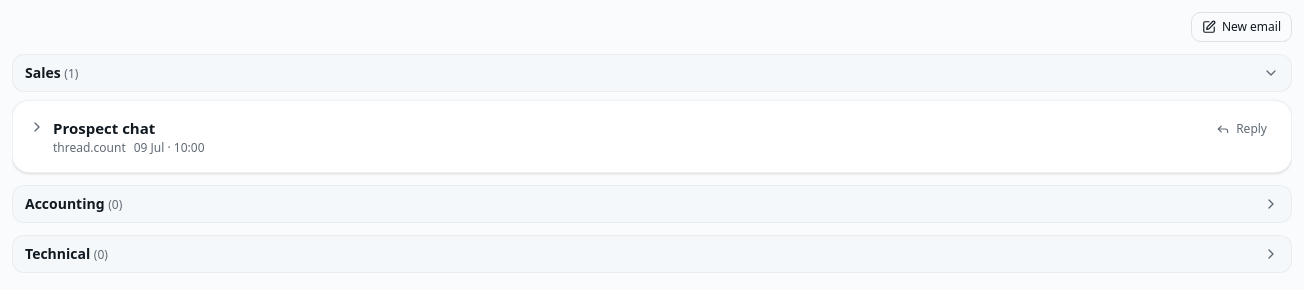
EmailThreadList › clicking a header collapses and re-expands its section
What coordinates should you click on to do the following:
click the button "Sales (1)"
I would click on:
 (43, 72)
Its box is top-left (12, 54), bottom-right (1292, 92).
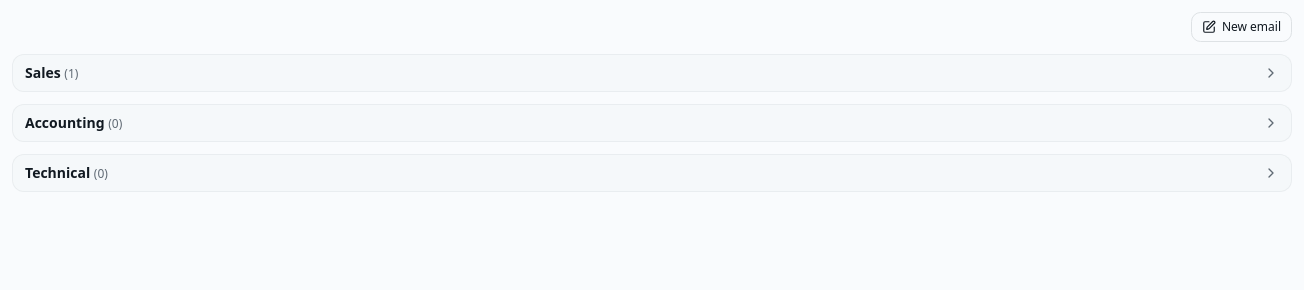
Expected: the button "Prospect chat" is gone
What coordinates should you click on to do the following:
click the button "Sales (1)"
I would click on:
 (43, 72)
Its box is top-left (12, 54), bottom-right (1292, 92).
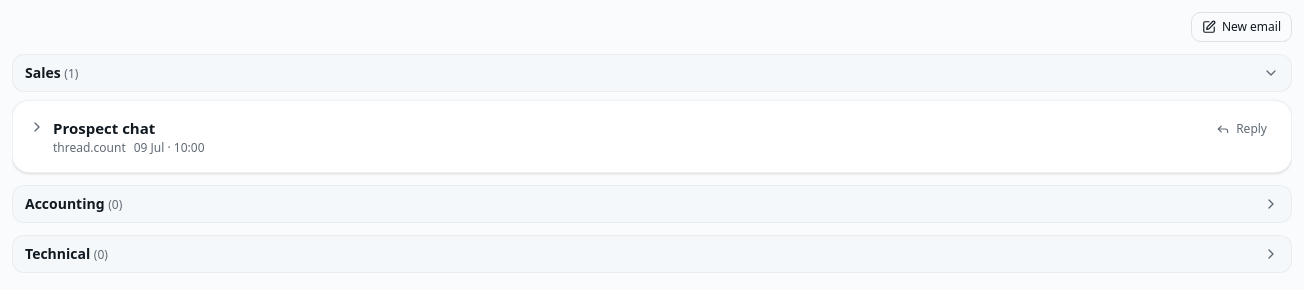
Expected: the heading "Prospect chat" is shown, top-left (53, 118), bottom-right (155, 138)
